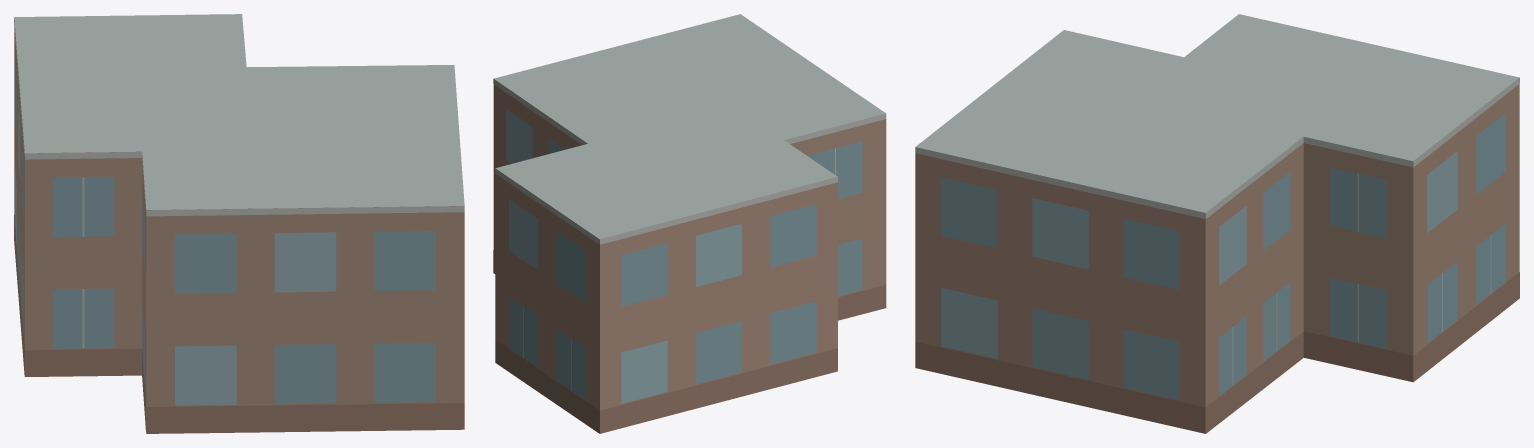
File: survey-upis-32984346.glb
3 renders of one model, left to right at view 1: azimuth 30°, elevation 25°; view 2: azimuth 150°, elevation 25°; view 3: azimuth 270°, elevation 25°, orthographic. The views are drawn at different scales.
Visible parts, largest first — view 1: survey-upis-32984346.tmp; view 2: survey-upis-32984346.tmp; view 3: survey-upis-32984346.tmp.
Part boxes in pixels (x1,y1,x2,y2): survey-upis-32984346.tmp: (14,14,464,433); survey-upis-32984346.tmp: (493,14,886,433); survey-upis-32984346.tmp: (915,14,1519,433).
Size of the model in its own units: 16.81 by 8.7 by 21.58.
